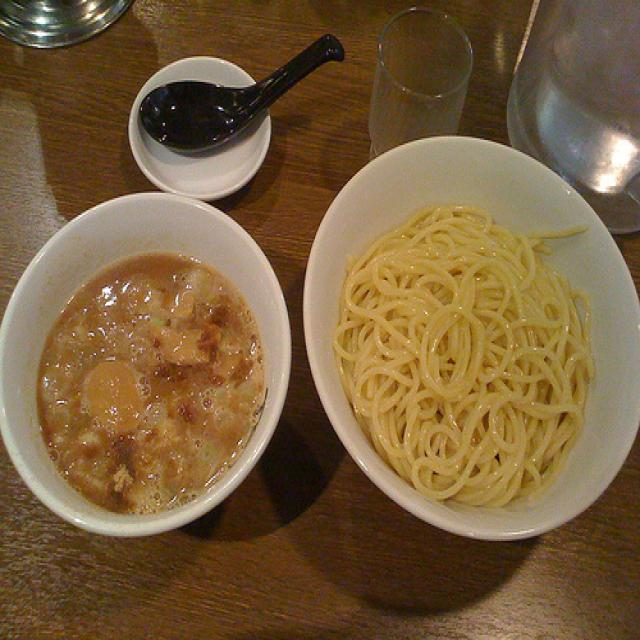面条主食: (27, 205, 609, 531)
